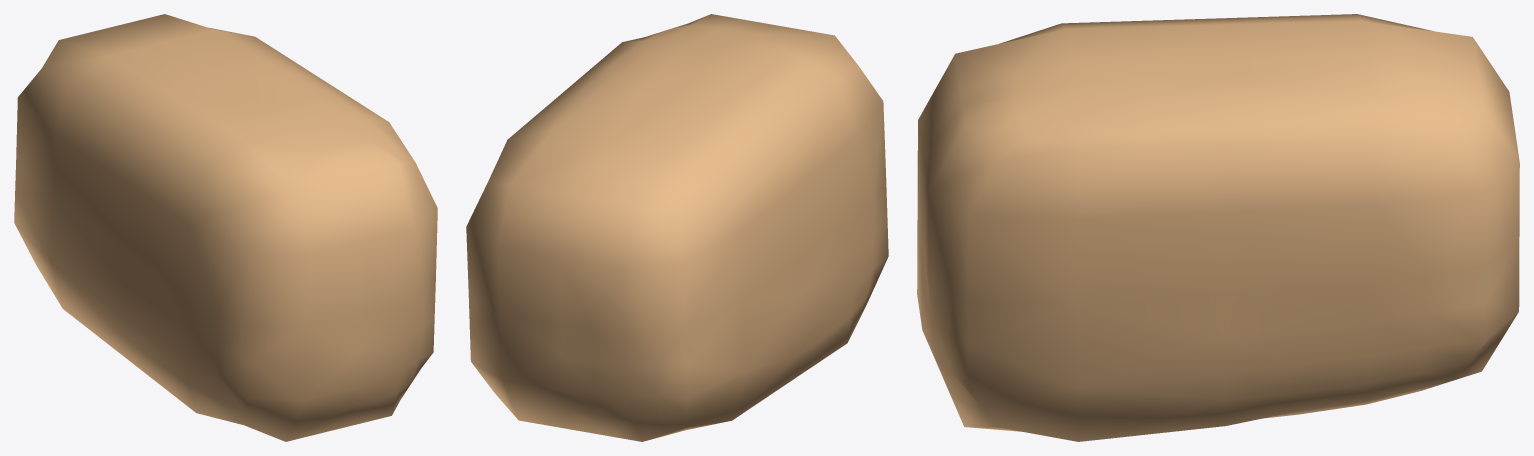
Rendered from middle_01_r.dae.
3 renders of one model, left to right at view 1: azimuth 30°, elevation 25°; view 2: azimuth 150°, elevation 25°; view 3: azimuth 270°, elevation 25°, orthographic. The views are drawn at different scales.
Parts seen in each view (by area): view 1: skin_geo_middle_01_r; view 2: skin_geo_middle_01_r; view 3: skin_geo_middle_01_r.
Boxes of the visible parts, x1,y1,x2,y2 form: skin_geo_middle_01_r: (14, 14, 437, 441); skin_geo_middle_01_r: (466, 14, 888, 441); skin_geo_middle_01_r: (917, 14, 1519, 441).
Bounding box in the file's own units: 0.0239 × 0.0426 × 0.027.
